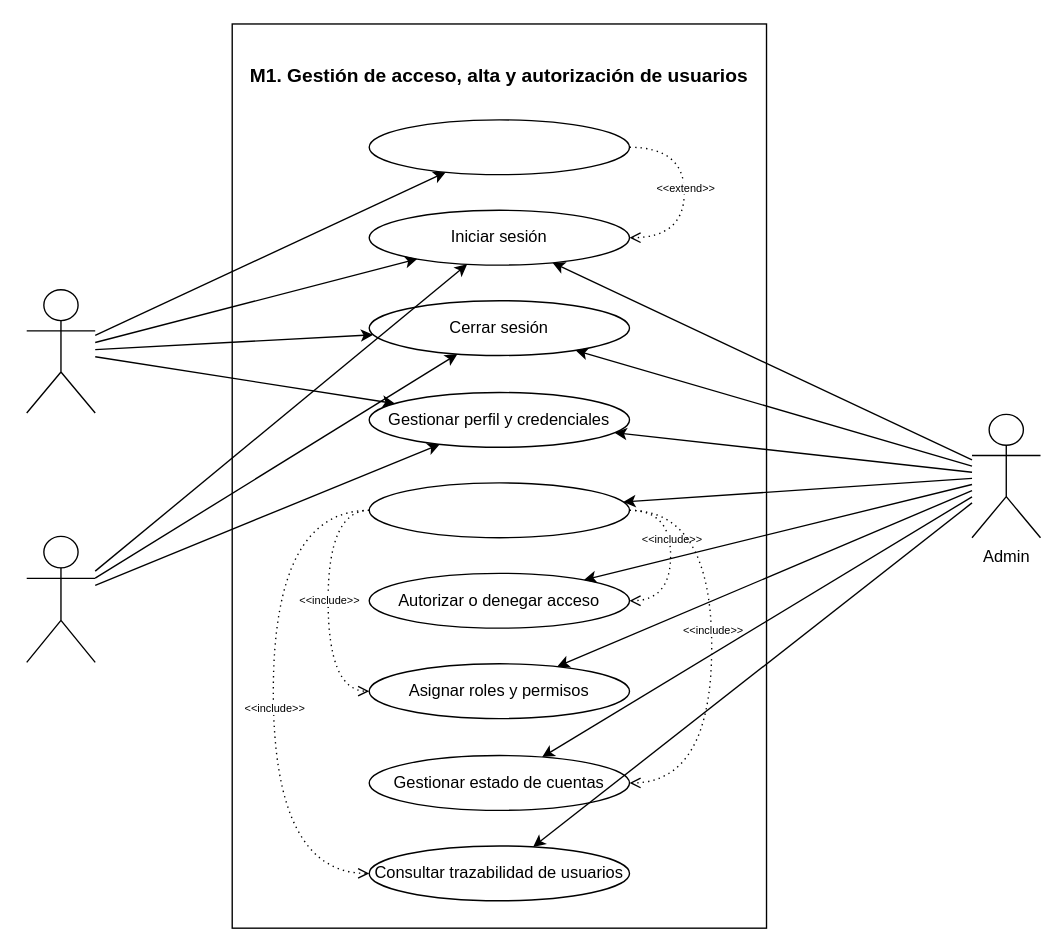
This 1064x952 diagram has some shape labels left out. Each missing label, with the centre of its shape:
"Cliente" belongs at point 60,350.
"Comercial" belongs at point 60,598.
"Gestionar usuarios" belongs at point 499,510.
"Solicitar acceso" belongs at point 499,147.
